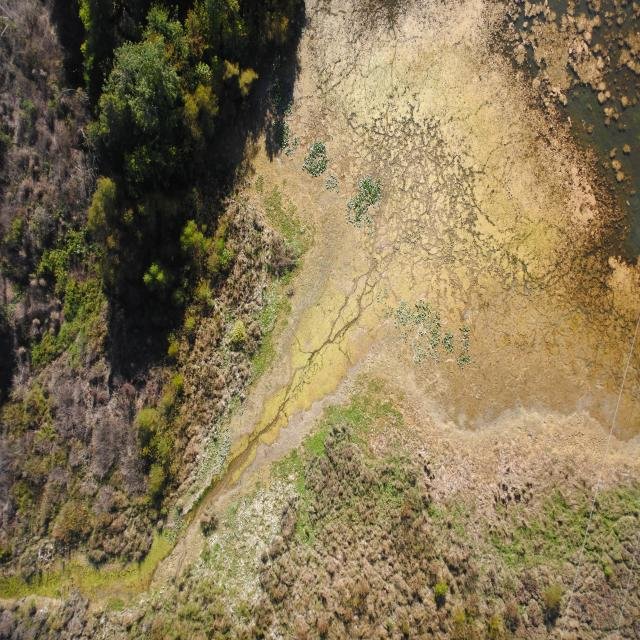Area of Interest: (87, 14, 281, 264)
